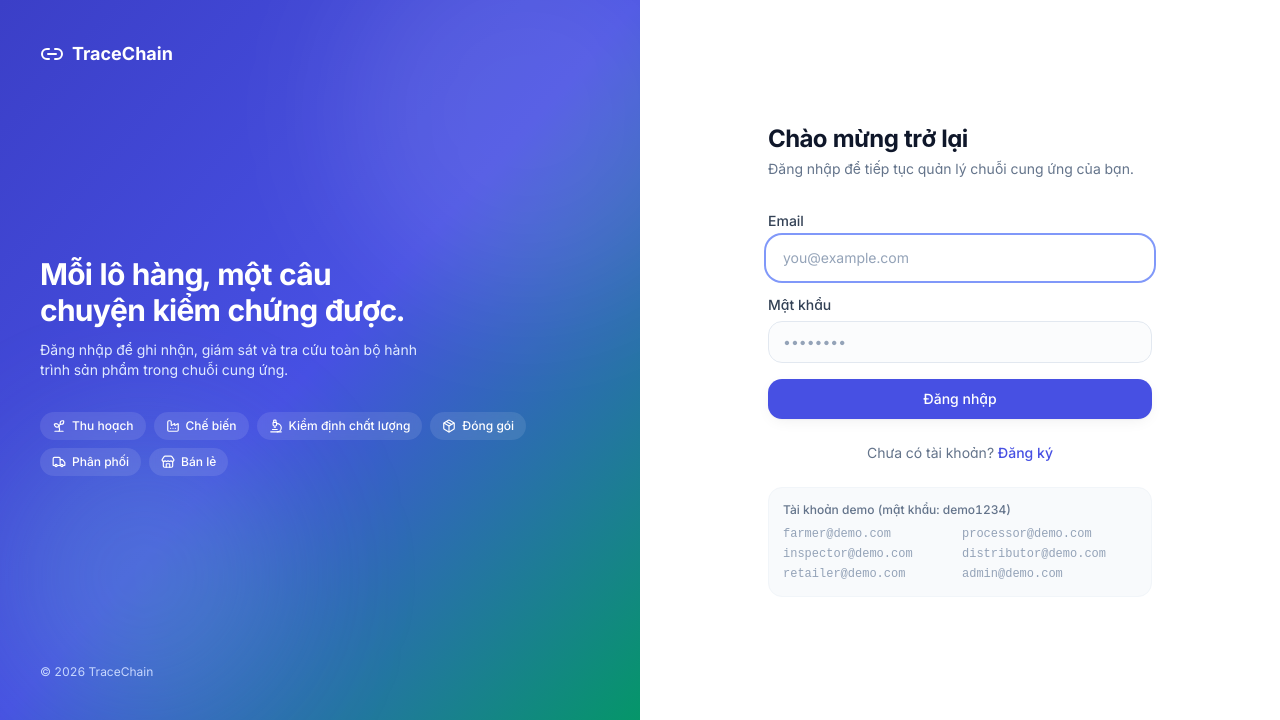
Test: Login › shows an inline error on invalid credentials without navigating away
Type "farmer@demo.com" into the field with placeholder "you@example.com". click: (960, 258)
box: [768,237,1152,279]
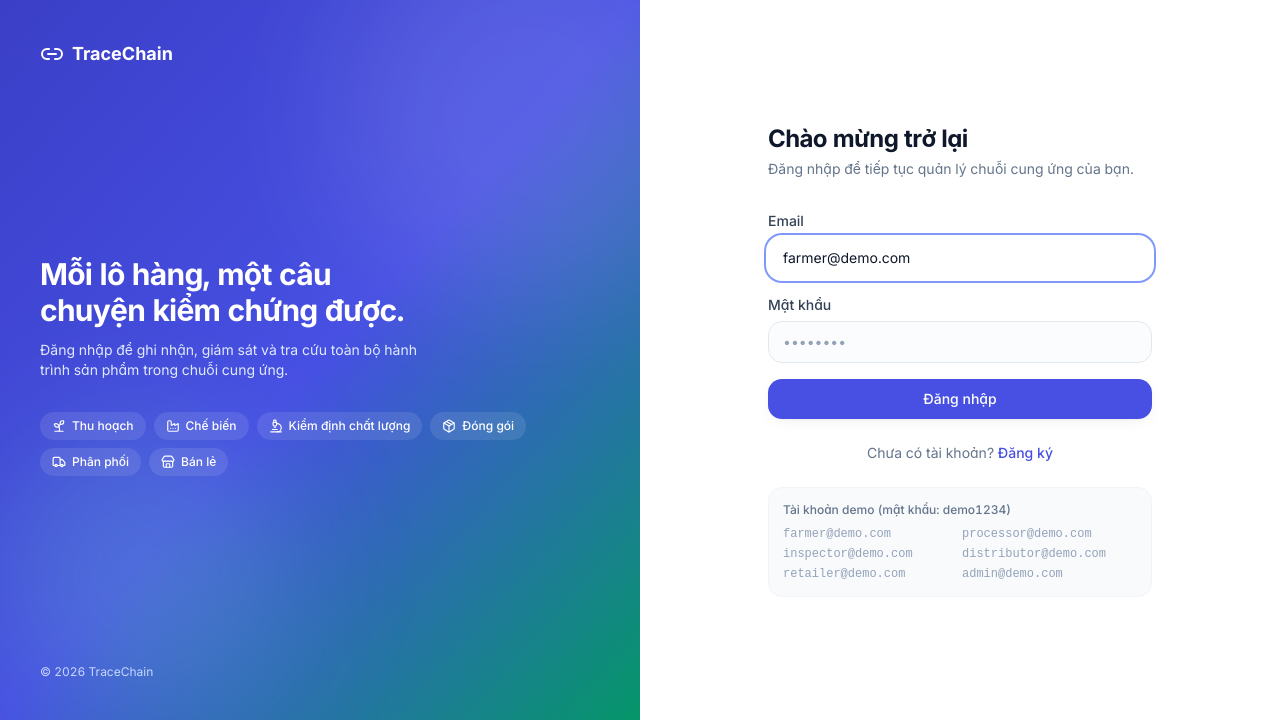
Type "wrong" into the password field with placeholder "••••••••". click: (960, 342)
box: [768,321,1152,363]
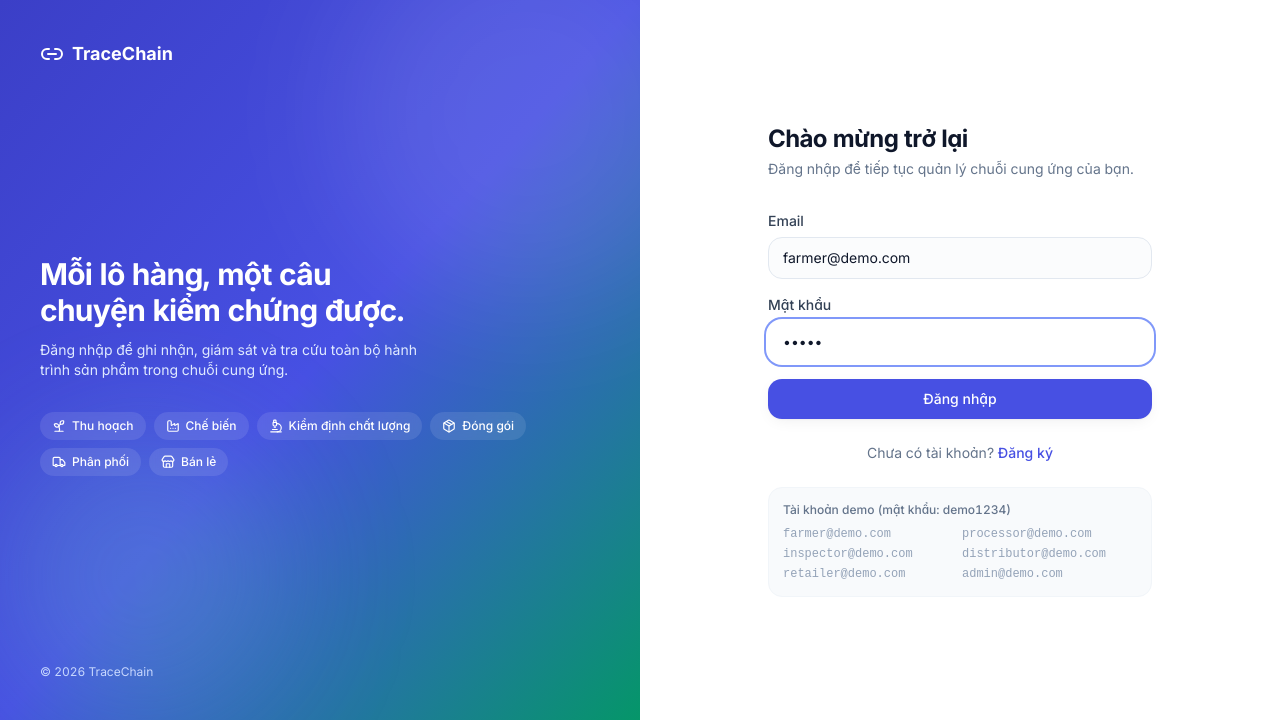
Click the button "Đăng nhập". click: (960, 399)
box: [768,379,1152,419]
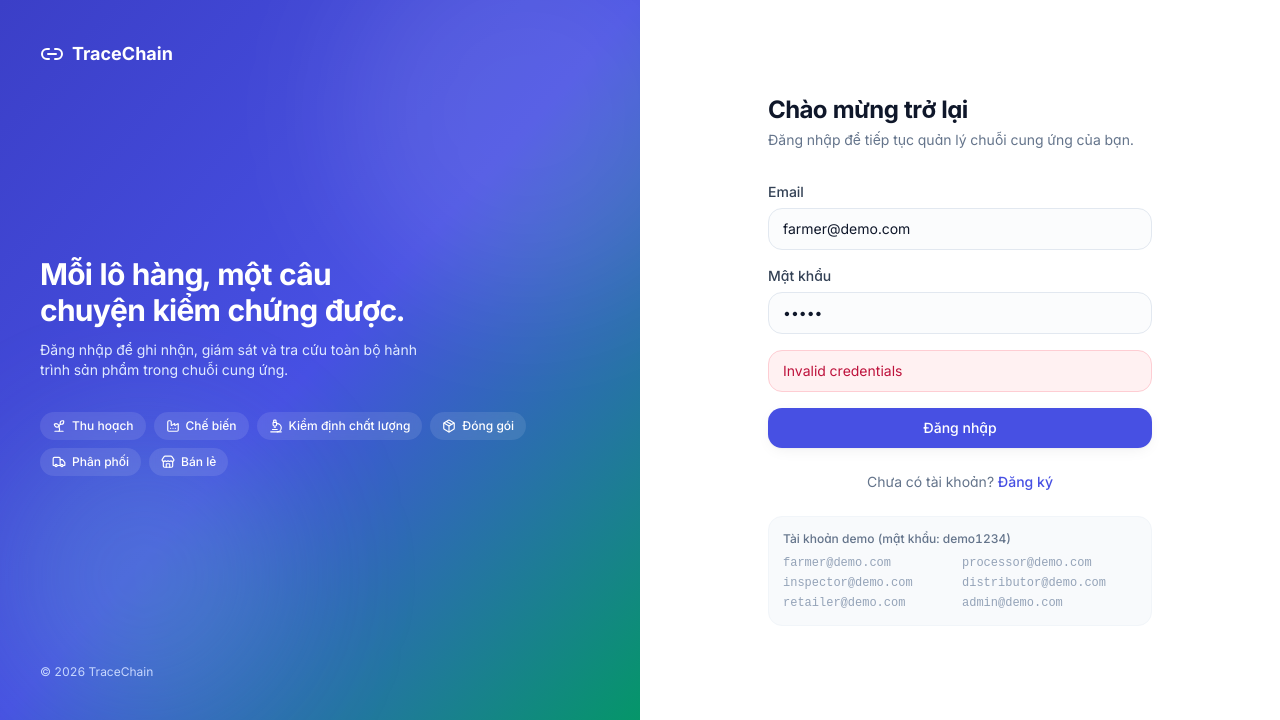
Now the text "Invalid credentials" is shown, box [768,350,1152,392]
